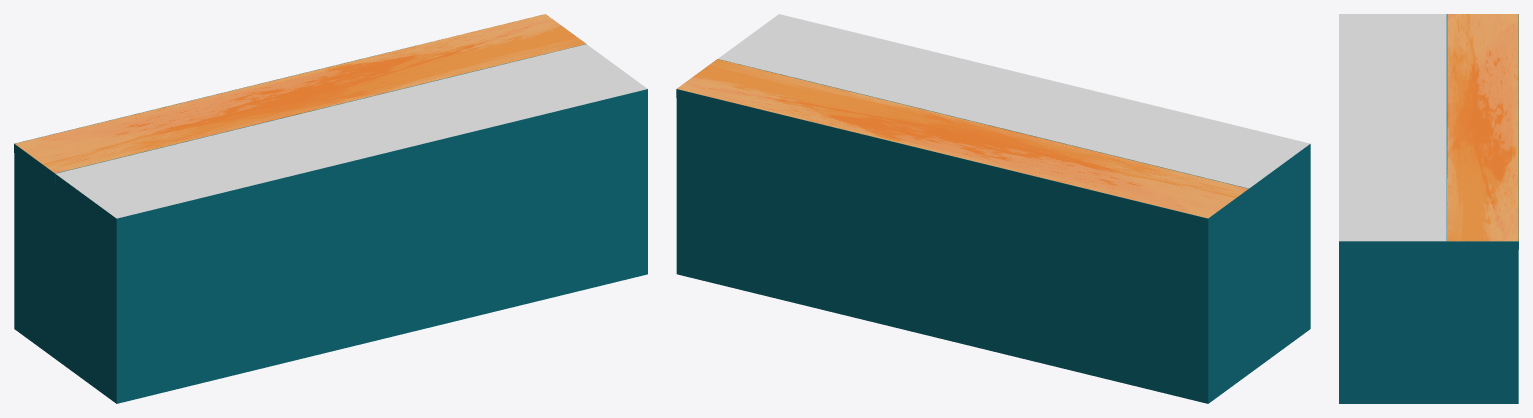
The model's file is lava-platform-003.fbx.
3 views of the same model, side by side, from view 1: azimuth 30°, elevation 25°; view 2: azimuth 150°, elevation 25°; view 3: azimuth 270°, elevation 25° (orthographic). The views are drawn at different scales.
Visible parts, largest first — view 1: Platform-box.003, lava-plane.003, Platform-box.004; view 2: Platform-box.003, lava-plane.003, Platform-box.004; view 3: Platform-box.003, lava-plane.003, Platform-box.004.
Part boxes in pixels (x1,y1,x2,y2): Platform-box.003: (14, 44, 647, 403); lava-plane.003: (15, 14, 585, 173); Platform-box.004: (14, 42, 586, 182); Platform-box.003: (676, 14, 1310, 403); lava-plane.003: (677, 59, 1248, 218); Platform-box.004: (676, 59, 1249, 227); Platform-box.003: (1339, 14, 1518, 403); lava-plane.003: (1447, 14, 1518, 241); Platform-box.004: (1446, 14, 1518, 249).
Size of the model in its own units: 3002 by 1000 by 1002.
